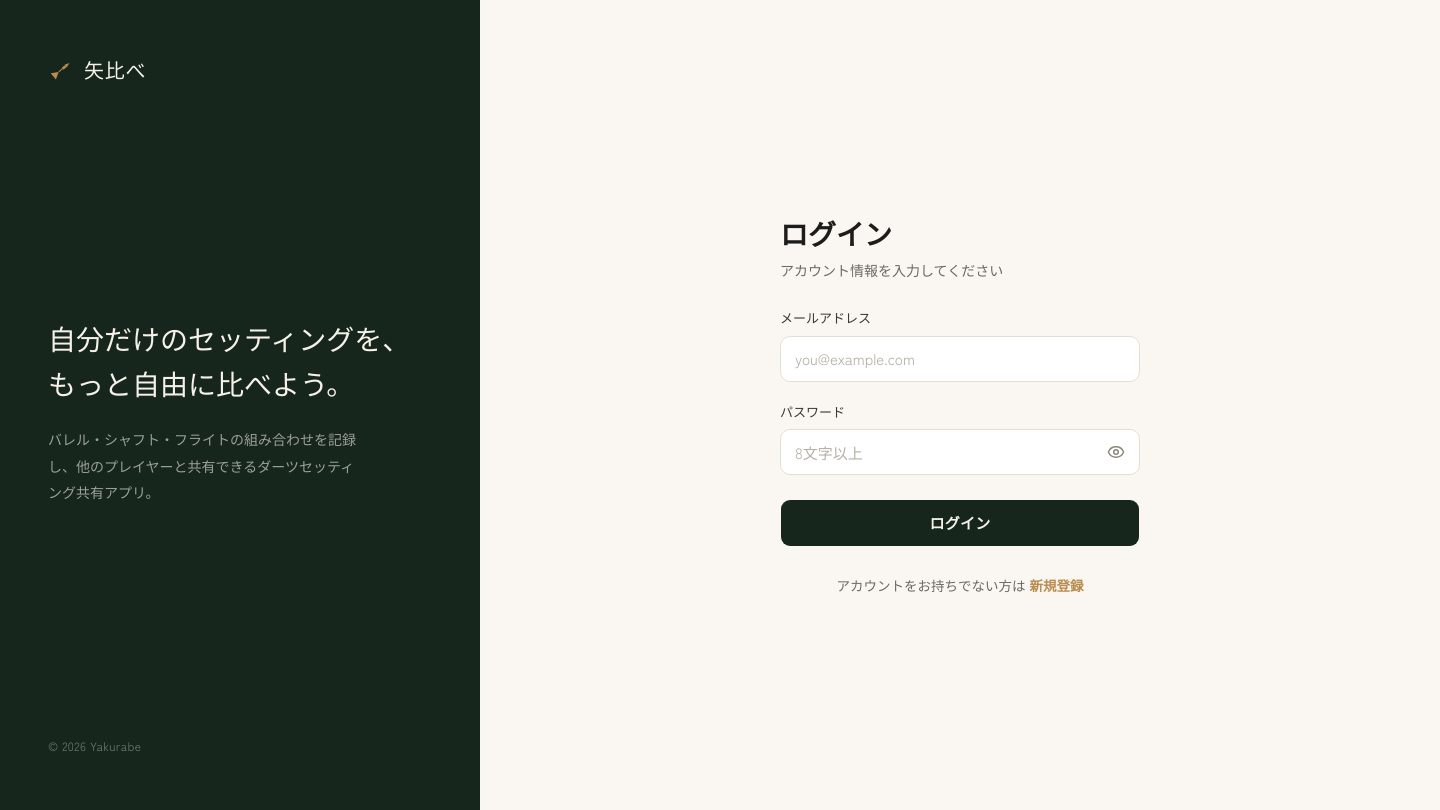
Test: LoginPage › 認証に失敗したらエラーメッセージを表示する
Type "test@example.com" into the field labelled "メールアドレス".
click(960, 358); type("test@example.com")  # box 780,336 -> 1140,382
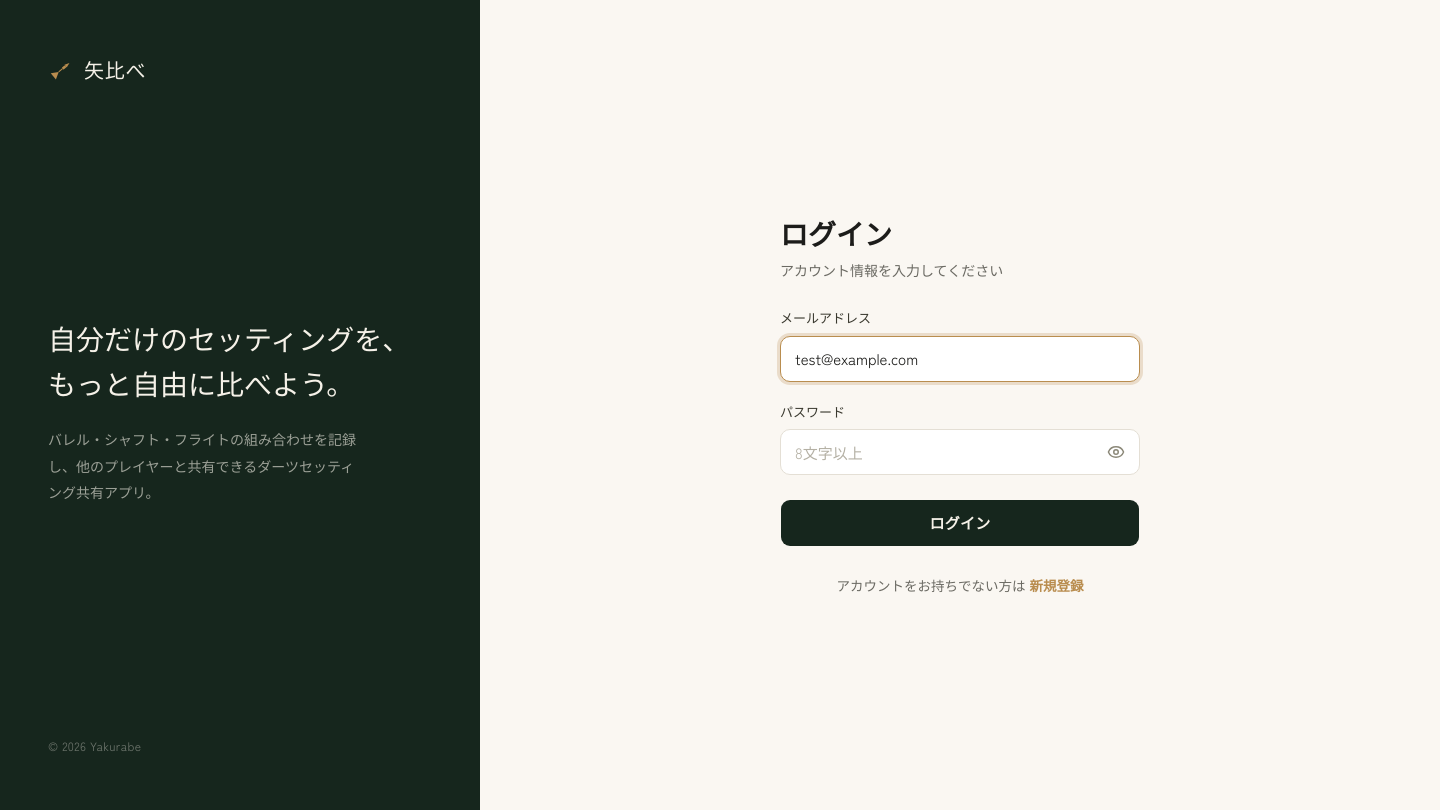
Type "wrong-password" into the password field labelled "パスワード".
click(960, 452); type("wrong-password")  # box 780,429 -> 1140,475
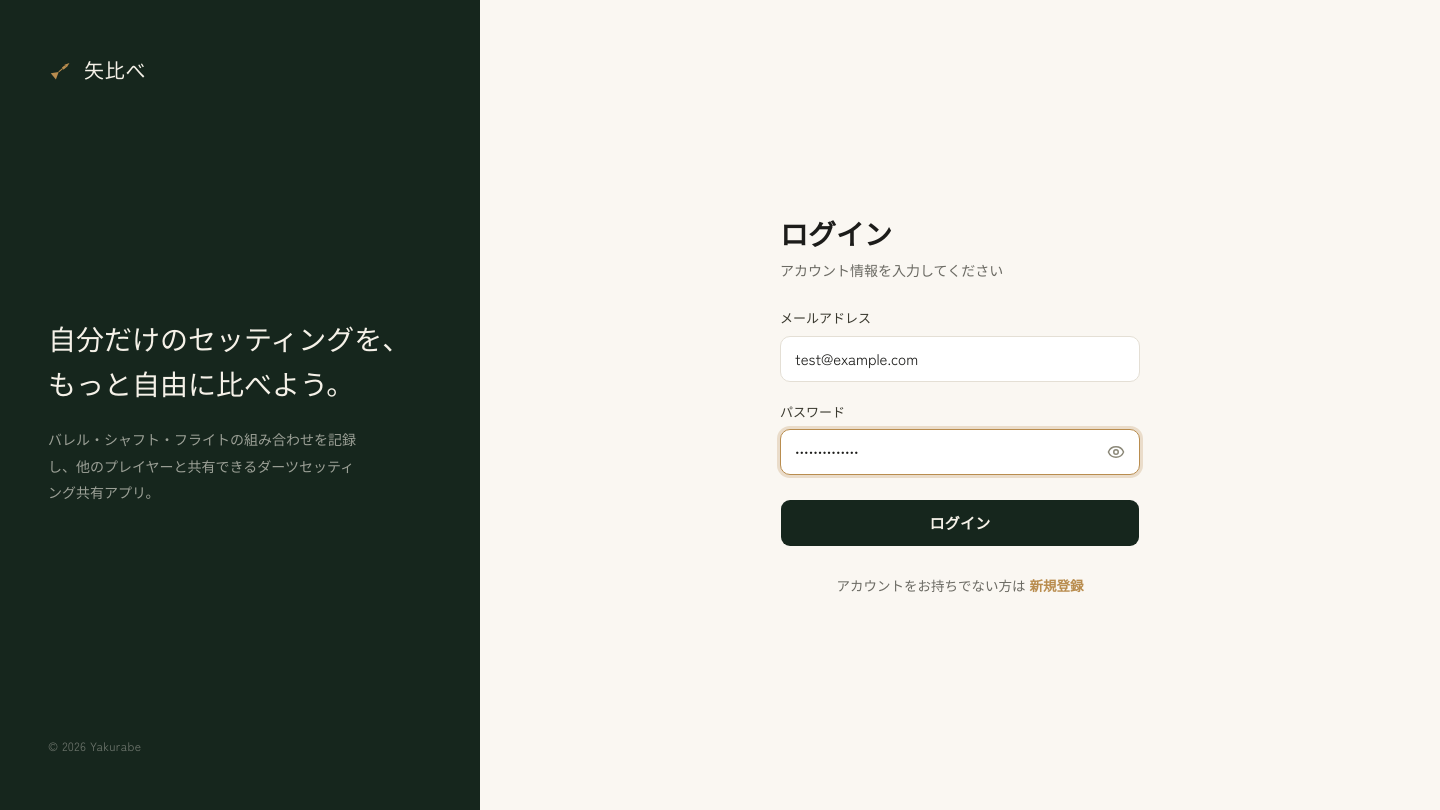
Click the button "ログイン".
click(960, 523)  # box 780,499 -> 1140,547
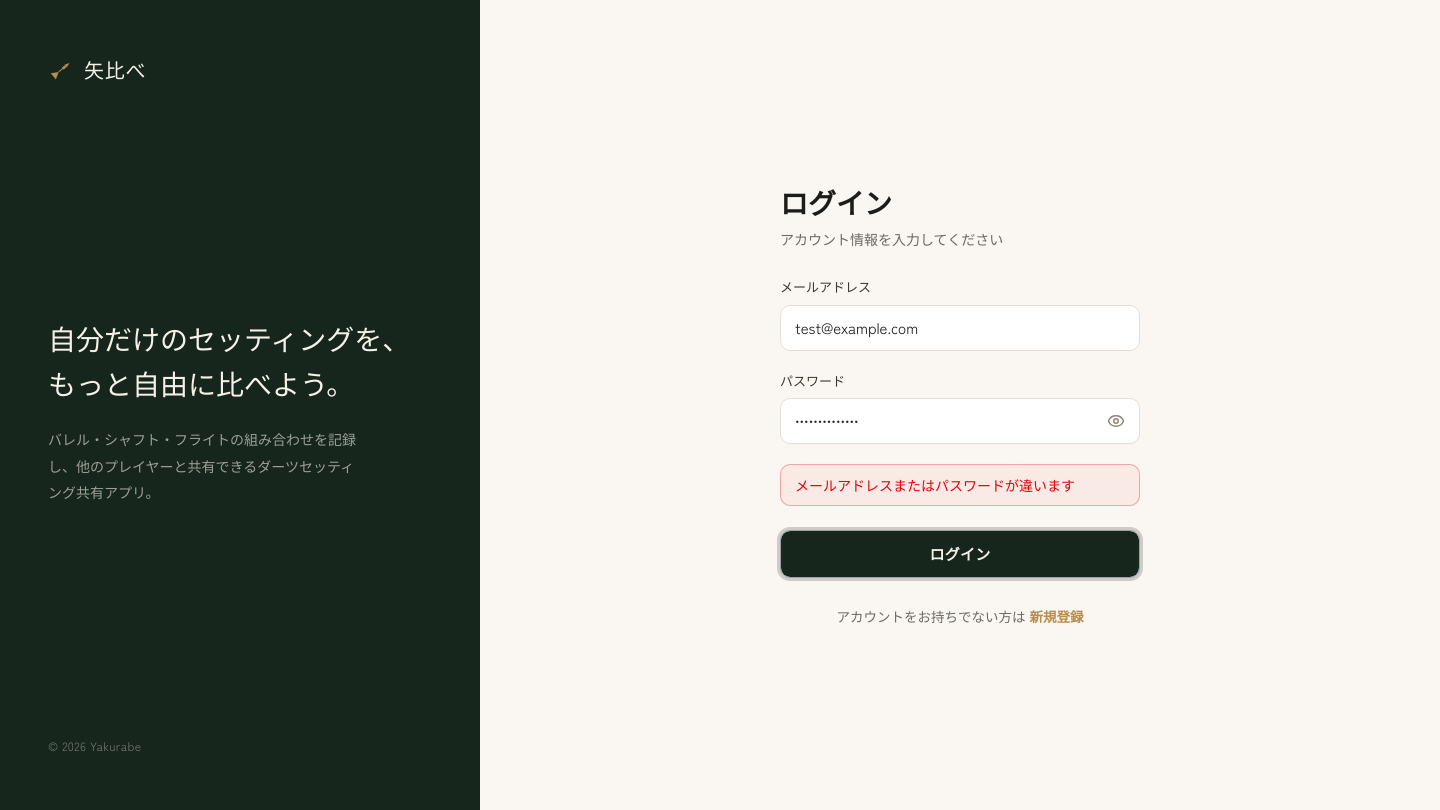
Result: the text "メールアドレスまたはパスワードが違います" is shown at 780,464 -> 1140,506
